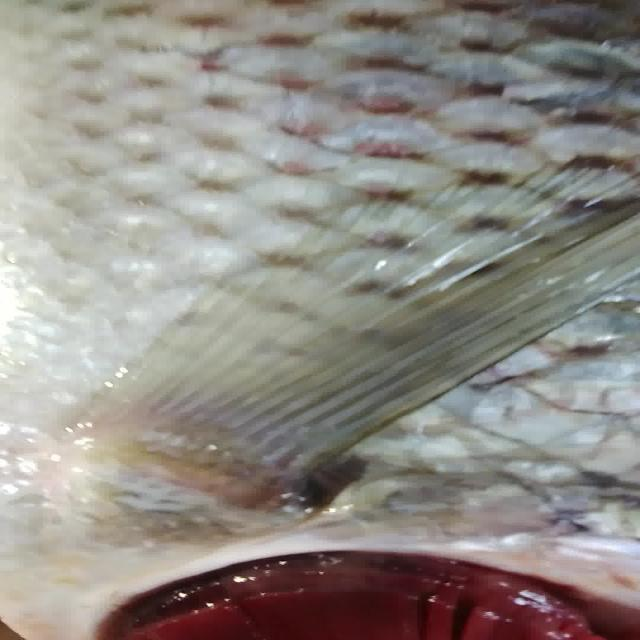Fresh: (95, 548, 592, 640)
